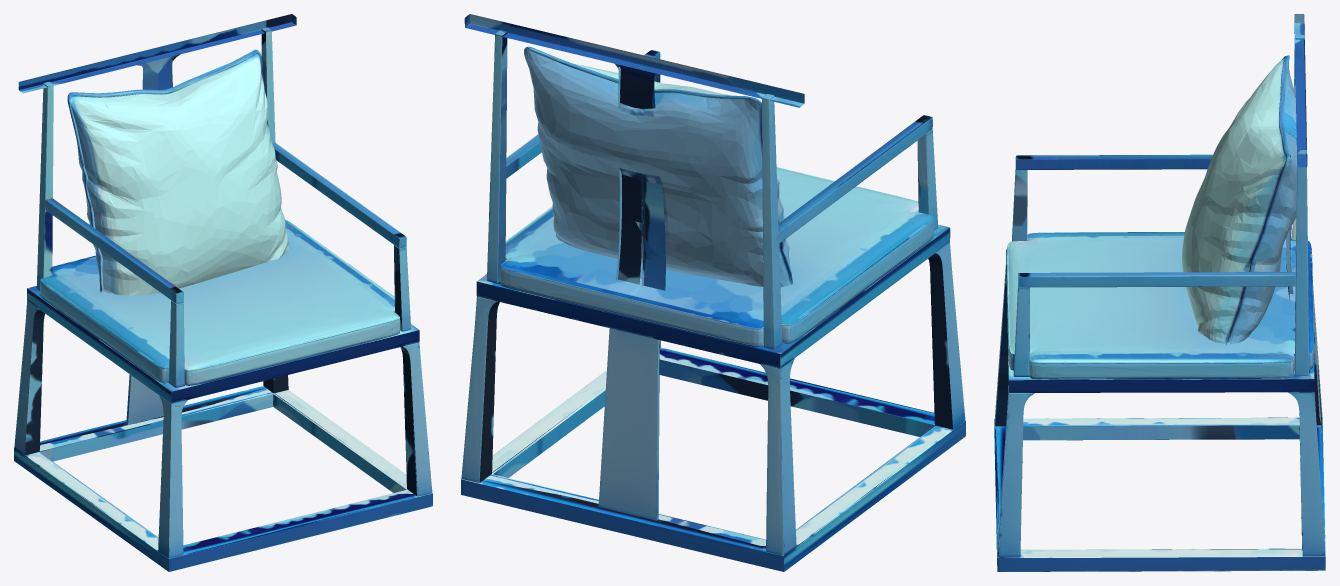
The model's file is edited_mesh.glb.
The picture shows the model from 3 angles, left to right: view 1: azimuth 30°, elevation 25°; view 2: azimuth 150°, elevation 25°; view 3: azimuth 270°, elevation 25°; orthographic projection. The views are drawn at different scales.
Parts seen in each view (by area): view 1: solid_001_wire; view 2: solid_001_wire; view 3: solid_001_wire.
Boxes of the visible parts, bbox=[...] form: solid_001_wire: bbox=[14, 14, 432, 571]; solid_001_wire: bbox=[461, 14, 965, 571]; solid_001_wire: bbox=[994, 14, 1325, 571].
Bounding box in the file's own units: 1.08 × 1.46 × 1.05.
Materials: 1 (1 with a texture image).
